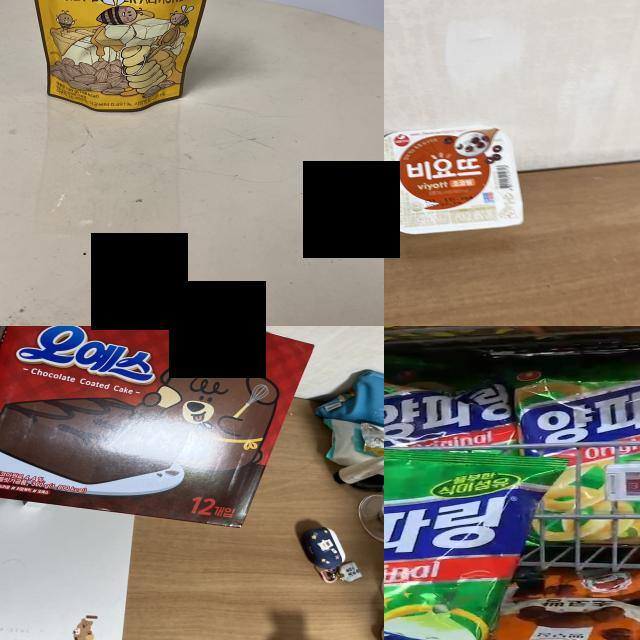bYott: (384, 124, 523, 237)
honeyAmond: (31, 0, 203, 103)
ohYes: (0, 326, 309, 524)
onionRing: (384, 447, 506, 640), (522, 364, 640, 546), (384, 366, 515, 455)
